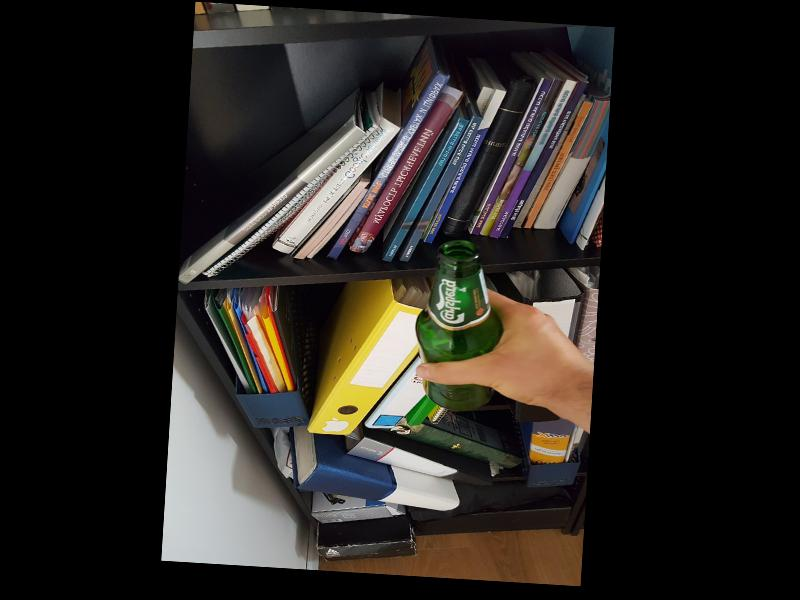Beer: (411, 238, 505, 414)
